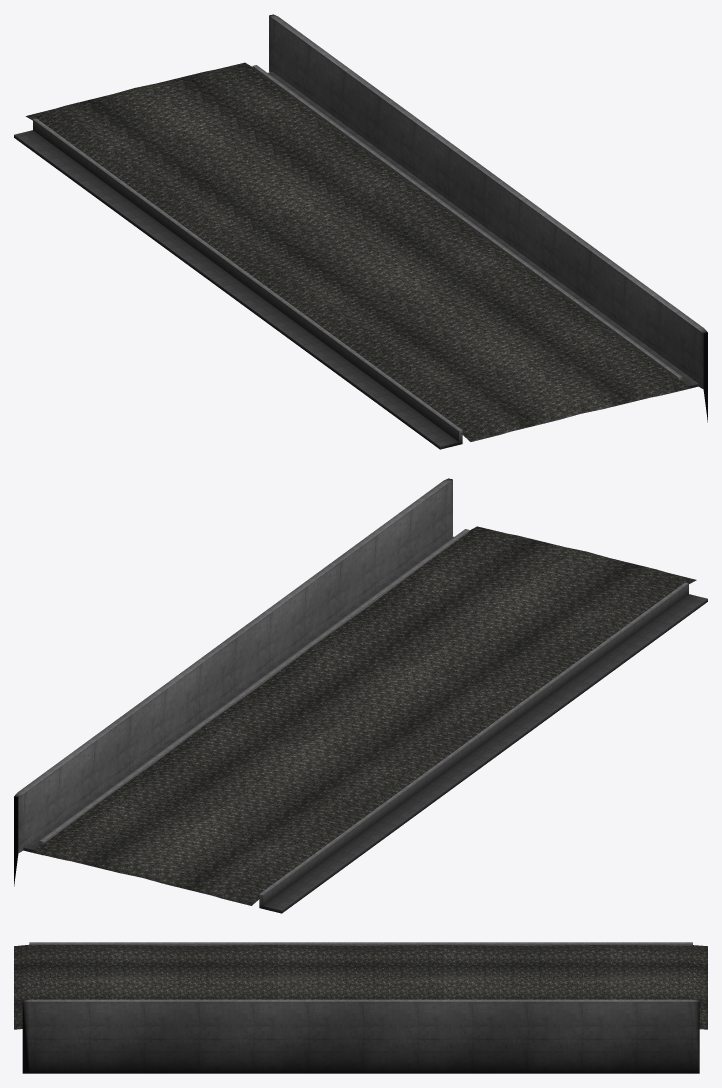
File: AMB_JARI_TOB_L_WALL.glb
3 views of the same model, one above another, from view 1: azimuth 30°, elevation 25°; view 2: azimuth 150°, elevation 25°; view 3: azimuth 270°, elevation 25° (orthographic). The views are drawn at different scales.
Visible parts, largest first — view 1: Mesh1; view 2: Mesh1; view 3: Mesh1.
Part boxes in pixels (left/top/right/bottom): Mesh1: left=14, top=14, right=707, bottom=449; Mesh1: left=14, top=478, right=707, bottom=913; Mesh1: left=14, top=942, right=707, bottom=1073.
Bounding box in the file's own units: 35.82 × 11.93 × 105.
2 materials, 2 textured.
